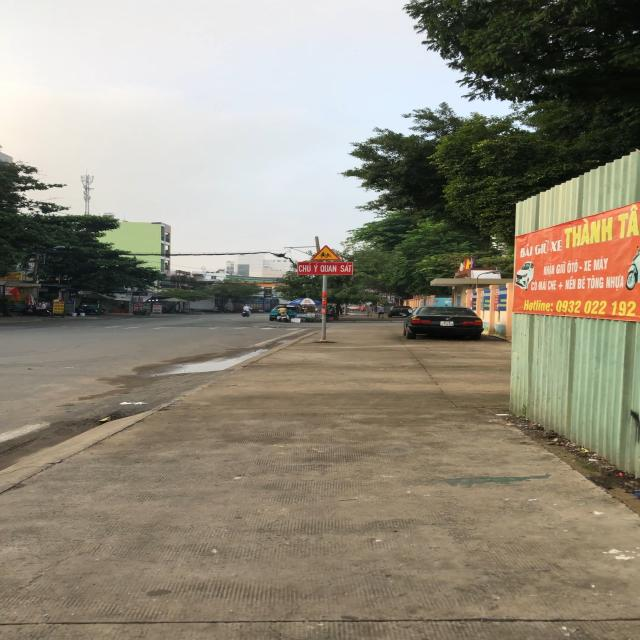Bien bao tre em: (310, 244, 344, 262)
